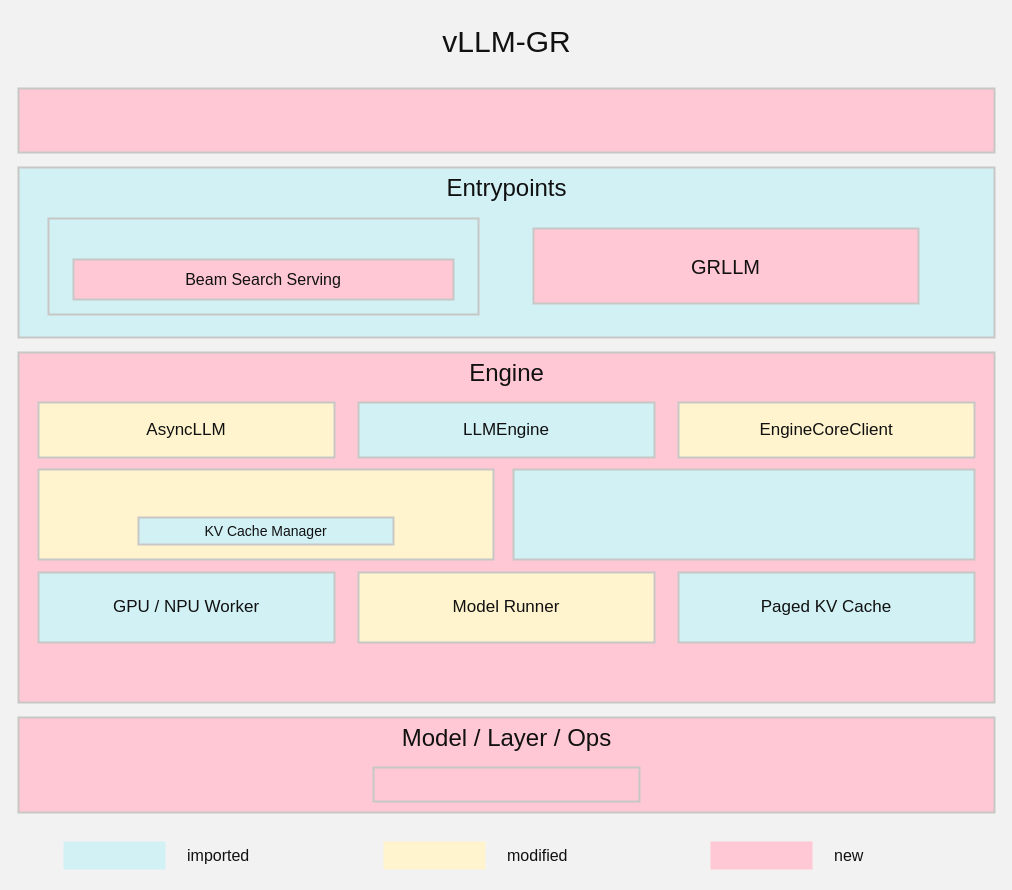
Some shapes in this 1012 by 890 pixel diagram are drawn without their labels. The shapes that lost their labels are listed below. From the top down, each one's box as (x1, y1, x2, y2) in pixels, then its label:
(17, 87, 995, 153): vLLM General Plugin
(47, 217, 479, 315): OpenAI API Server
(37, 468, 494, 560): Scheduler
(512, 468, 975, 560): Executor
(372, 766, 640, 802): BeamAttn
